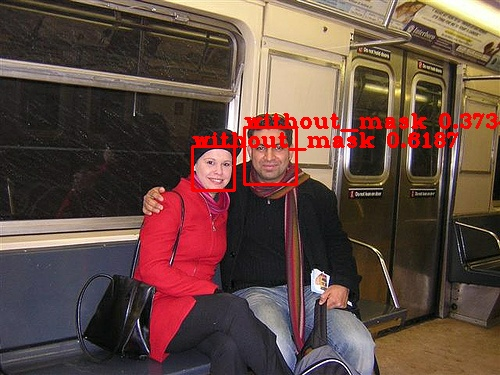without_mask: (246, 120, 295, 179), (190, 137, 239, 195)
